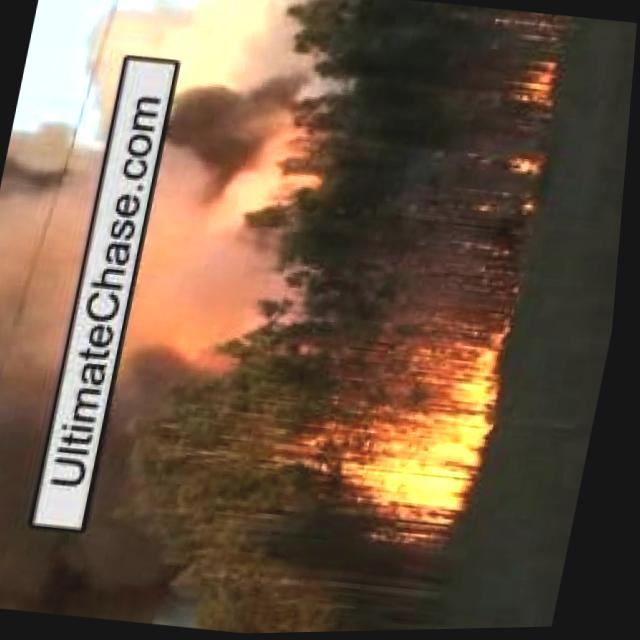Fire: (352, 322, 516, 524), (501, 56, 563, 110), (498, 154, 546, 183)
Smoke: (0, 0, 401, 640)
